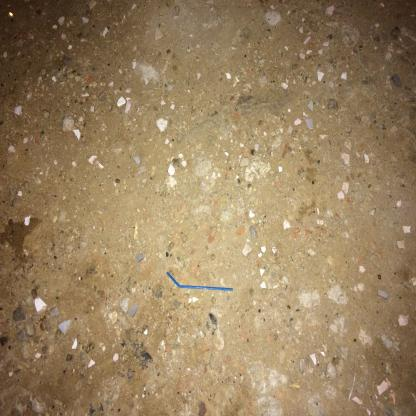trash: (165, 271, 235, 295)
